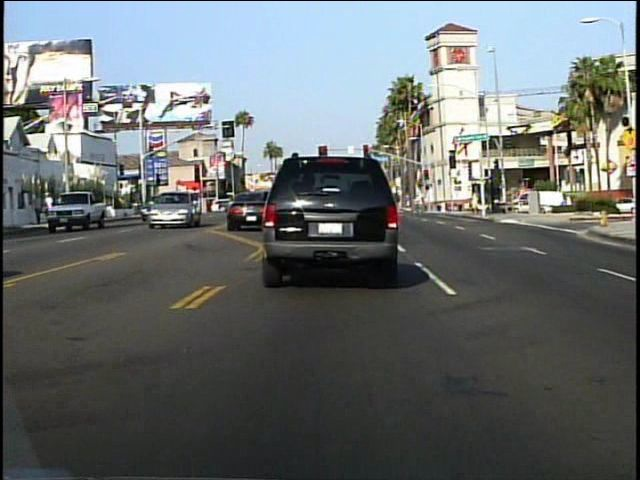person: (169, 191, 184, 222)
